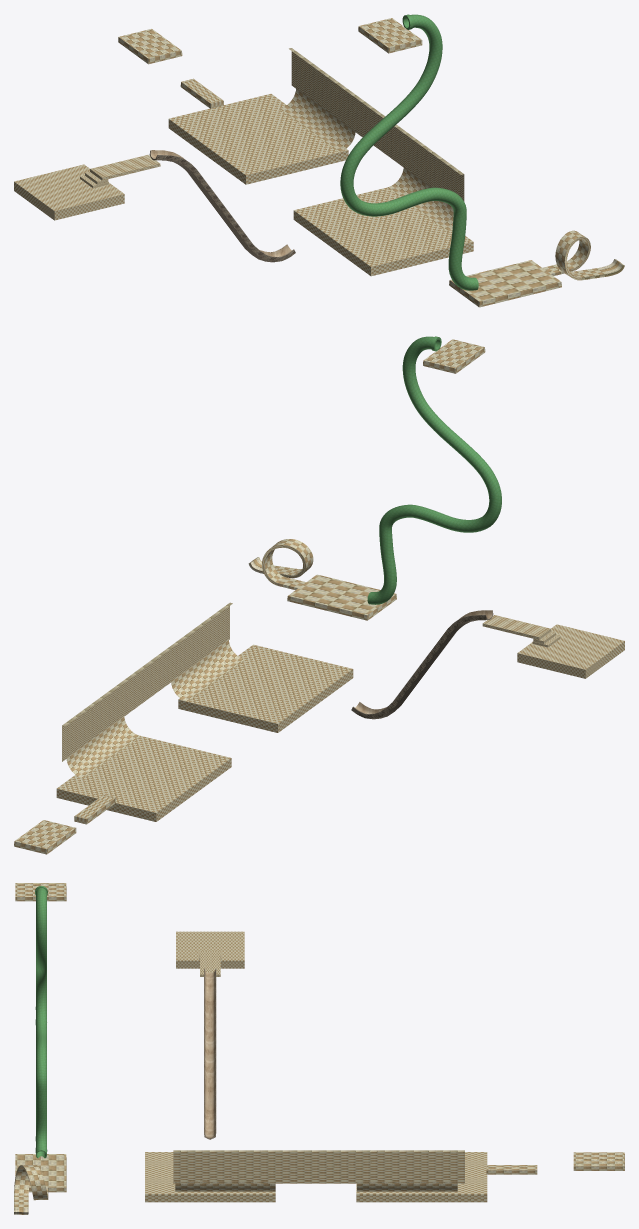
The model's file is TutorialUVTextures.dae.
3 views of the same model, one above another, from view 1: azimuth 30°, elevation 25°; view 2: azimuth 150°, elevation 25°; view 3: azimuth 270°, elevation 25° (orthographic). The views are drawn at different scales.
Parts seen in each view (by area): view 1: Cube_006, Cube_005, PipeOutside, Cube_007, Cube, Cube_011, Cylinder_001, Spiral, RampBark, Cube_009, Cube_010, Cylinder (+2 smaller); view 2: Cube_005, Cube_006, Cube_007, PipeOutside, Cube, Cube_011, Cylinder_001, Cylinder, Spiral, RampBark, Cube_009, Cube_010 (+1 smaller); view 3: Cube_007, PipeOutside, Cube_005, Cube_006, Cube, Ramp, Cube_011, Spiral, Cylinder, Cylinder_001, Cube_009, Cube_010 (+3 smaller).
Part boxes in pixels (x1,y1,x2,y2): Cube_006: [168, 94, 348, 184]; Cube_005: [293, 187, 473, 276]; PipeOutside: [340, 14, 478, 290]; Cube_007: [289, 48, 464, 201]; Cube: [14, 164, 124, 220]; Cube_011: [449, 260, 561, 307]; Cylinder_001: [279, 88, 355, 152]; Spiral: [542, 230, 624, 280]; RampBark: [149, 150, 295, 262]; Cube_009: [118, 29, 182, 64]; Cube_010: [358, 18, 422, 53]; Cylinder: [387, 167, 453, 230]; Cube_005: [178, 644, 353, 732]; Cube_006: [56, 735, 231, 821]; Cube_007: [62, 602, 232, 761]; PipeOutside: [367, 336, 501, 604]; Cube: [517, 624, 624, 678]; Cube_011: [287, 574, 396, 620]; Cylinder_001: [66, 716, 139, 778]; Cylinder: [171, 639, 244, 701]; Spiral: [248, 539, 313, 589]; RampBark: [351, 610, 493, 719]; Cube_009: [14, 820, 76, 854]; Cube_010: [423, 339, 485, 373]; Cube_007: [173, 1150, 464, 1183]; PipeOutside: [35, 888, 47, 1158]; Cube_005: [145, 1152, 275, 1202]; Cube_006: [356, 1152, 487, 1202]; Cube: [176, 931, 244, 968]; Ramp: [204, 969, 215, 1137]; Cube_011: [15, 1154, 66, 1192]; Spiral: [14, 1164, 48, 1214]; Cylinder: [175, 1182, 275, 1191]; Cylinder_001: [357, 1182, 457, 1191]; Cube_009: [573, 1152, 624, 1170]; Cube_010: [15, 883, 66, 901].
Bounding box in the file's own units: 6300 × 8309 × 3955.
Materials: 4 (4 with a texture image).
